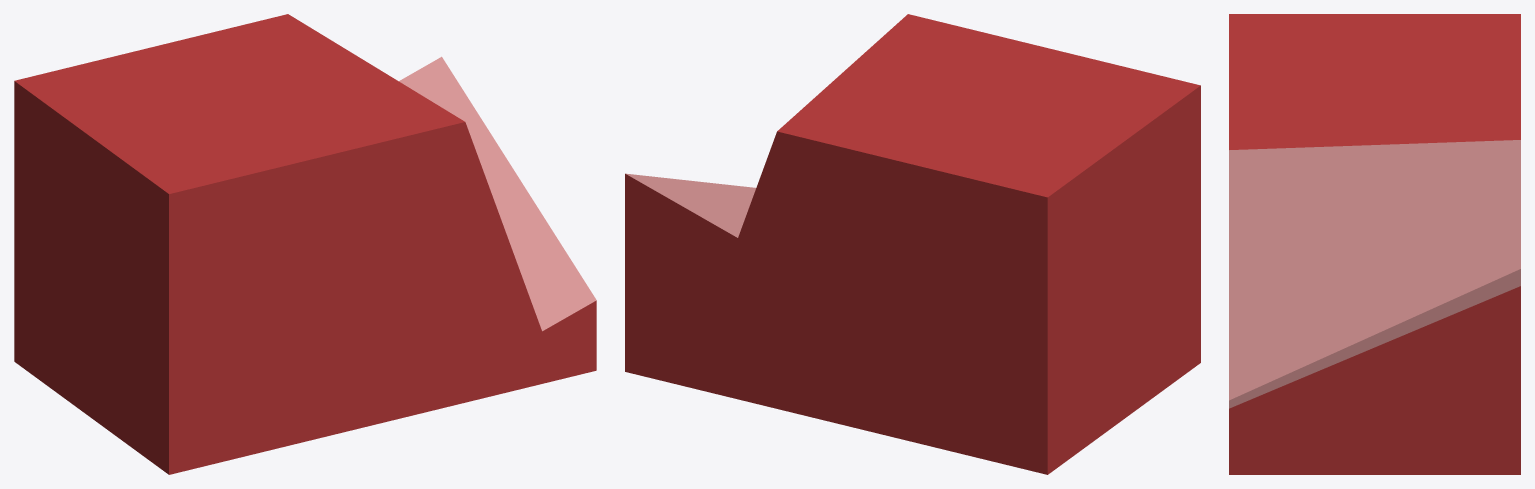
The picture shows the model from 3 angles, left to right: view 1: azimuth 30°, elevation 25°; view 2: azimuth 150°, elevation 25°; view 3: azimuth 270°, elevation 25°; orthographic projection. The views are drawn at different scales.
Visible parts, largest first — view 1: base; view 2: base; view 3: base.
Boxes of the visible parts, x1,y1,x2,y2 form: base: (14, 14, 596, 474); base: (625, 14, 1200, 474); base: (1229, 14, 1520, 474).
Bounding box in the file's own units: 92.98 × 58.33 × 58.33.
